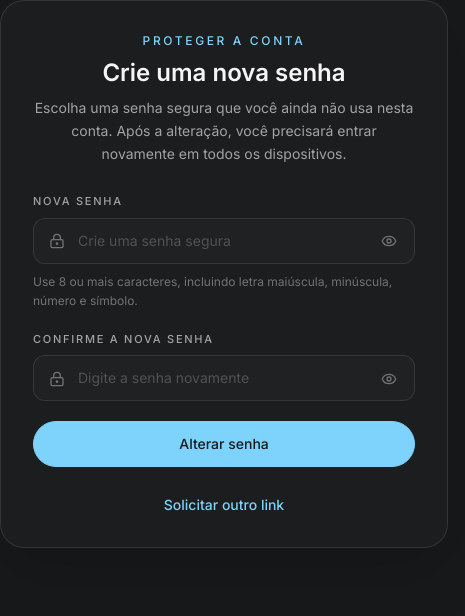
formulários de recuperação de senha › apresenta uma mensagem segura quando o acesso de recuperação expirou
The width and height of the screenshot is (465, 616).
Type "Nova@Senha123" into the password field labelled "Nova senha" at [224, 241], box [33,218,415,264]
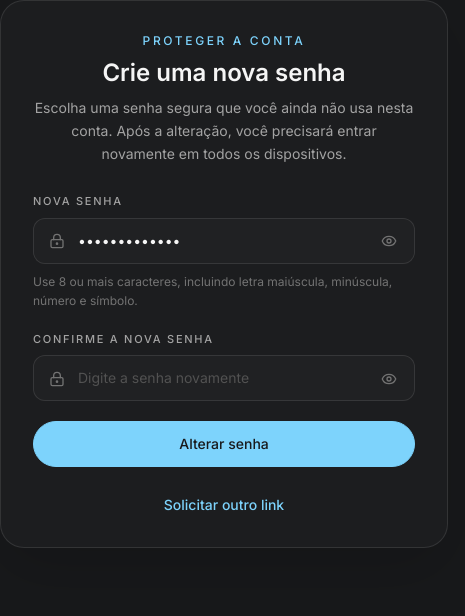
Type "Nova@Senha123" into the password field labelled "Confirme a nova senha" at [224, 378], box [33,355,415,401]
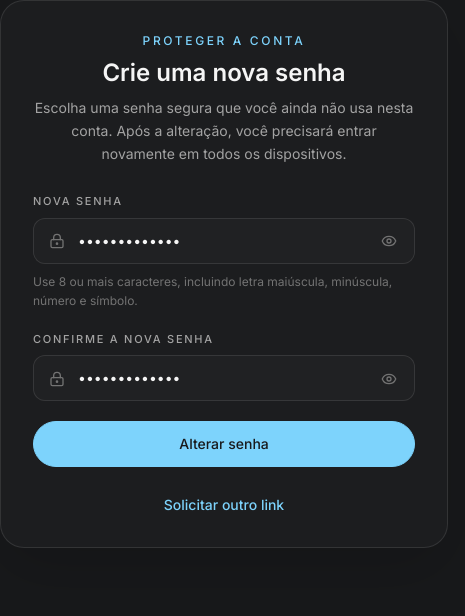
Click the button "Alterar senha" at [224, 444], box [33,421,415,467]
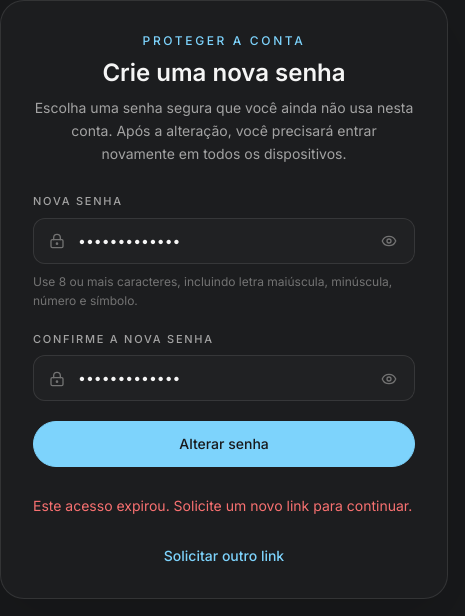
Check: the message shows "Este acesso expirou.", box [33,497,412,514]
